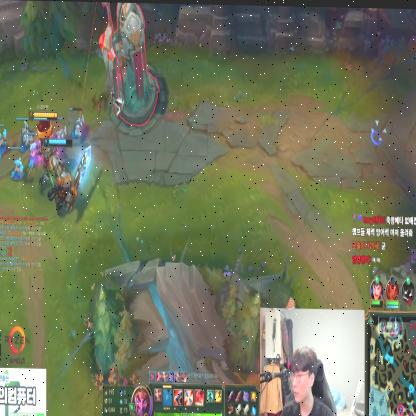streamer: (276, 344, 336, 416)
